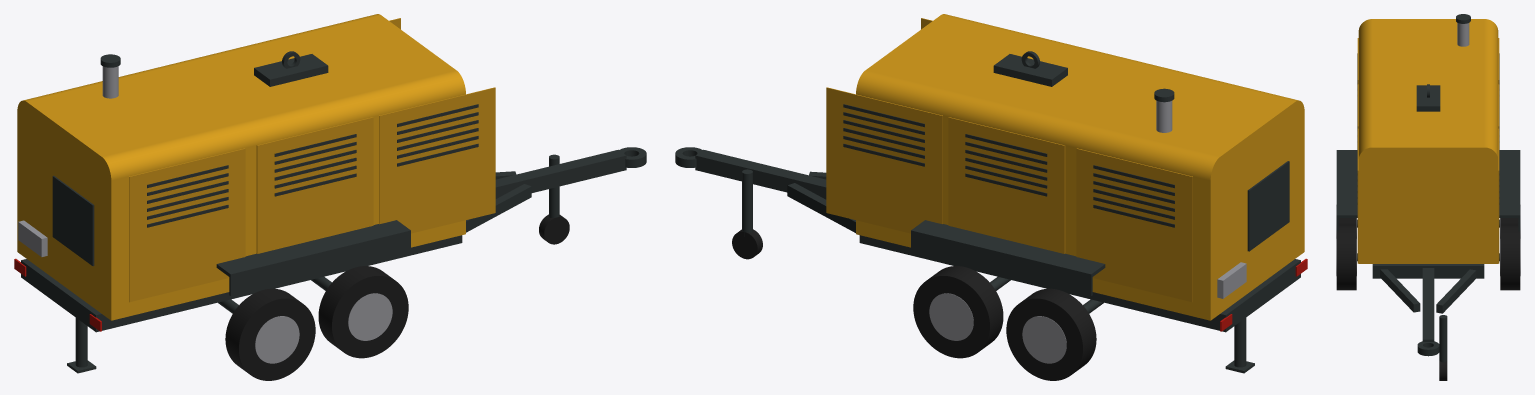
Rendered from compressor-towable-twin-axle.glb.
3 renders of one model, left to right at view 1: azimuth 30°, elevation 25°; view 2: azimuth 150°, elevation 25°; view 3: azimuth 270°, elevation 25°, orthographic. The views are drawn at different scales.
Parts seen in each view (by area): view 1: canopy_e34bd9, door_350_-1_503146, jockey_post_de928b, jockey_wheel_9ea604, exhaust_pipe_70c36b; view 2: canopy_e34bd9, door_350_-1_503146, jockey_post_de928b, jockey_wheel_9ea604, exhaust_pipe_70c36b; view 3: canopy_e34bd9, jockey_post_de928b, jockey_wheel_9ea604, door_350_-1_503146, exhaust_pipe_70c36b.
Boxes of the visible parts, box(x1,y1,x2,y2) form: canopy_e34bd9: box(17, 14, 465, 320); door_350_-1_503146: box(129, 18, 495, 302); jockey_post_de928b: box(21, 51, 646, 373); jockey_wheel_9ea604: box(225, 214, 569, 380); exhaust_pipe_70c36b: box(18, 66, 392, 363); canopy_e34bd9: box(856, 14, 1304, 320); door_350_-1_503146: box(826, 18, 1192, 302); jockey_post_de928b: box(675, 51, 1300, 373); jockey_wheel_9ea604: box(732, 229, 1096, 380); exhaust_pipe_70c36b: box(929, 100, 1246, 363); canopy_e34bd9: box(1358, 19, 1498, 263); jockey_post_de928b: box(1336, 14, 1520, 362); jockey_wheel_9ea604: box(1336, 218, 1520, 380); door_350_-1_503146: box(1357, 38, 1499, 263); exhaust_pipe_70c36b: box(1336, 23, 1520, 275).
Bounding box in the file's own units: 5.05 × 2.29 × 1.85.
